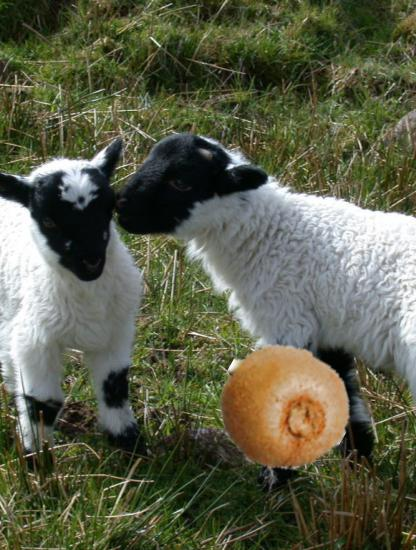Kiwi: (216, 341, 351, 476)
